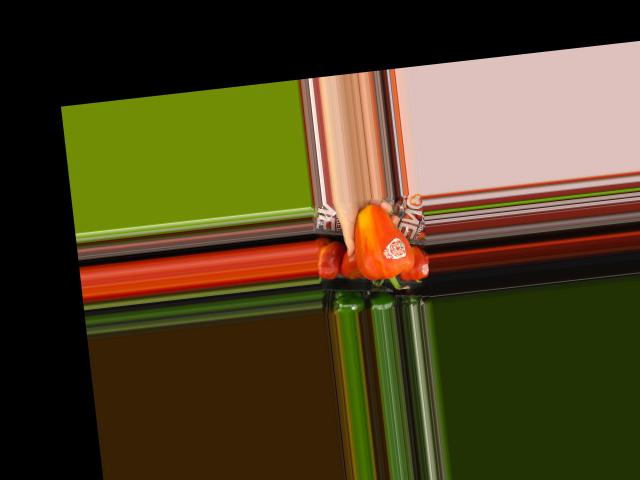bell_pepper: (343, 201, 419, 295)
